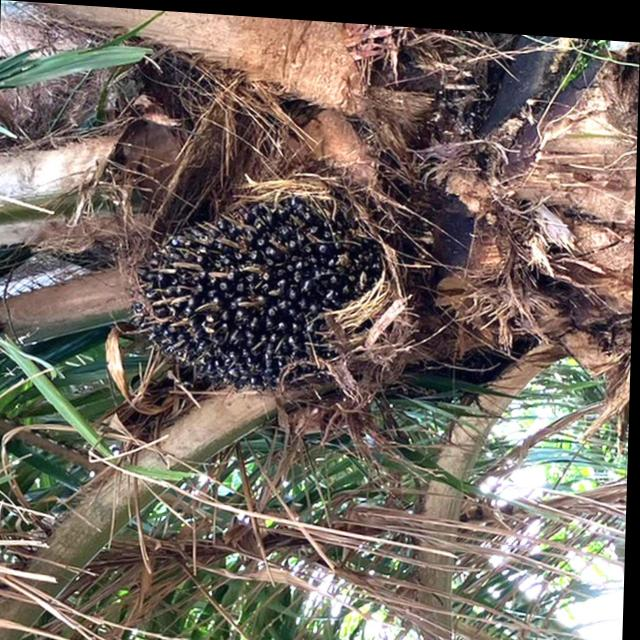unripe: (114, 158, 432, 421)
